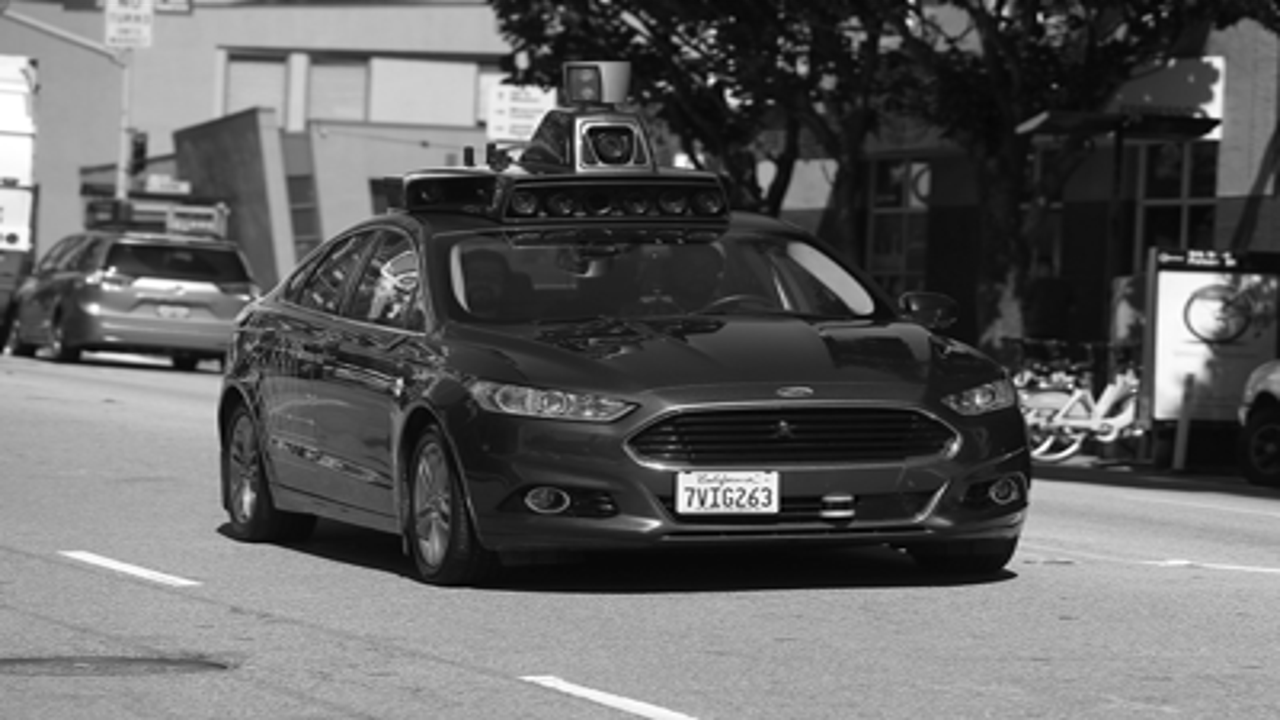license: (670, 466, 785, 521)
